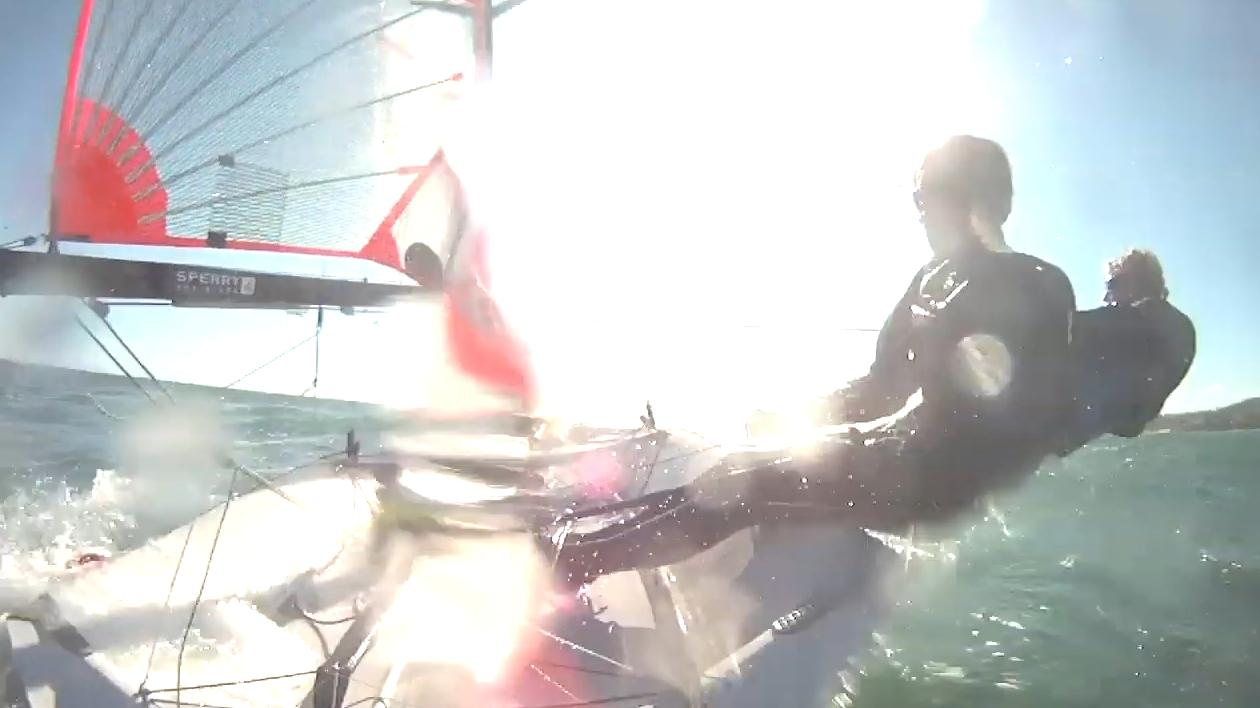boat: (0, 0, 896, 708)
sea: (852, 431, 1260, 708), (0, 360, 399, 617)
sky: (448, 0, 1260, 428), (0, 296, 403, 402), (0, 0, 80, 247)
